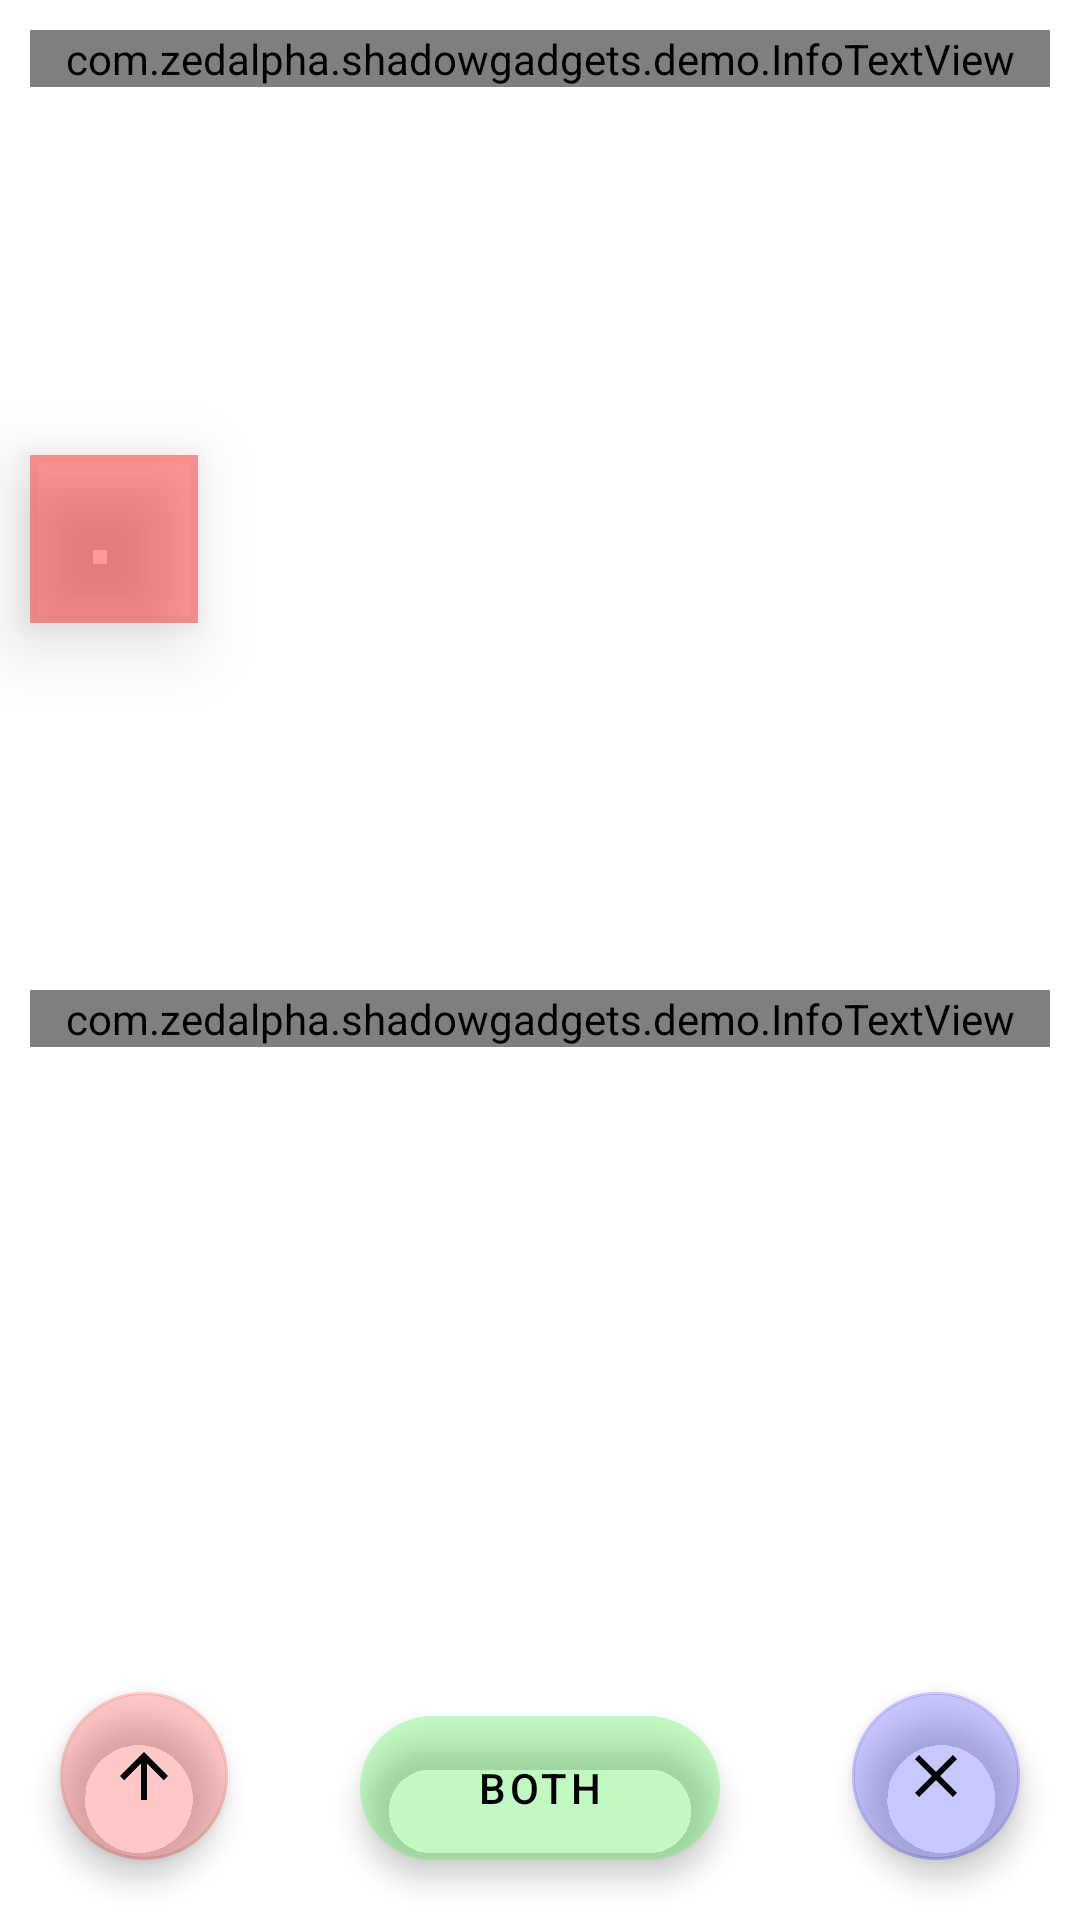

Icons on this 1080 x 1920 Android screen, each with the point to tap as (x=x, y=y):
arrow up: (x=144, y=1776)
clear: (x=936, y=1776)
